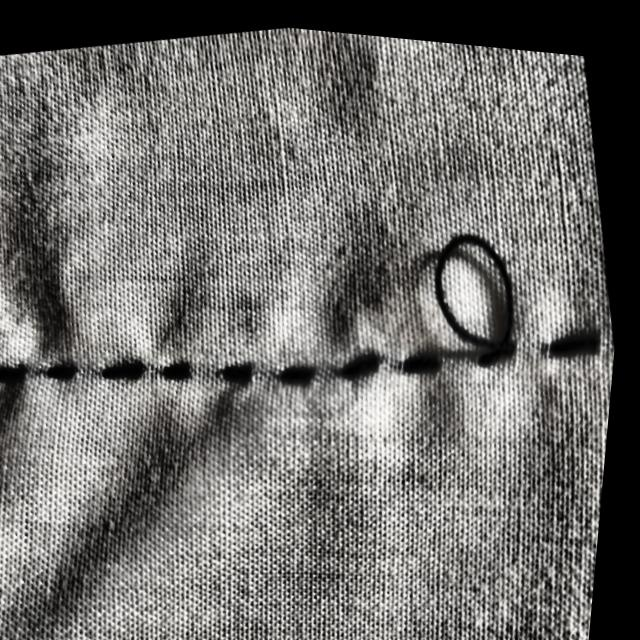Stitch: (394, 151, 581, 432)
